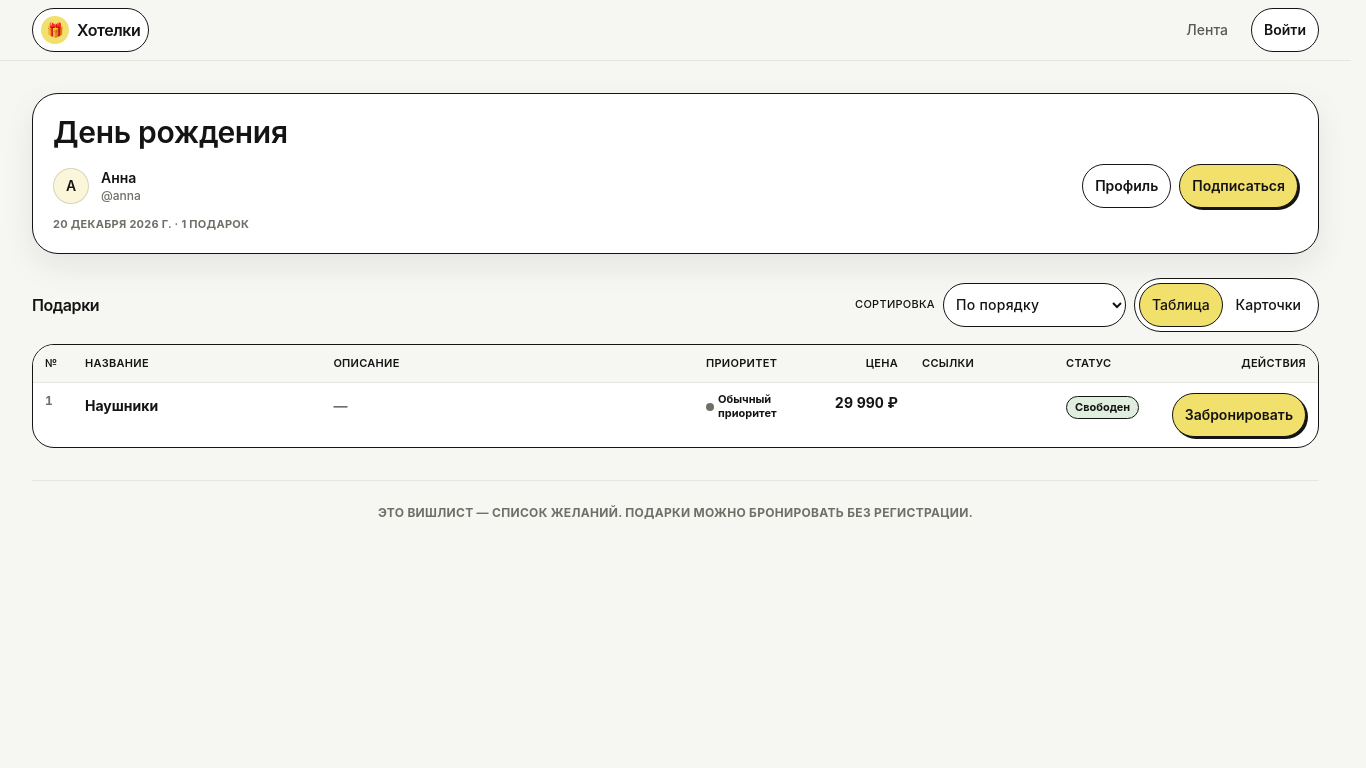
Test case: переключатель вида подарков › переключение на «Карточки» сохраняется и переживает перемонтирование
The width and height of the screenshot is (1366, 768).
Later steps or results of the test are not shown.
Expected: the text "Наушники" is shown, [85,397,158,414]
Click the button "Карточки": [1268, 304] box [1223,282,1314,326]
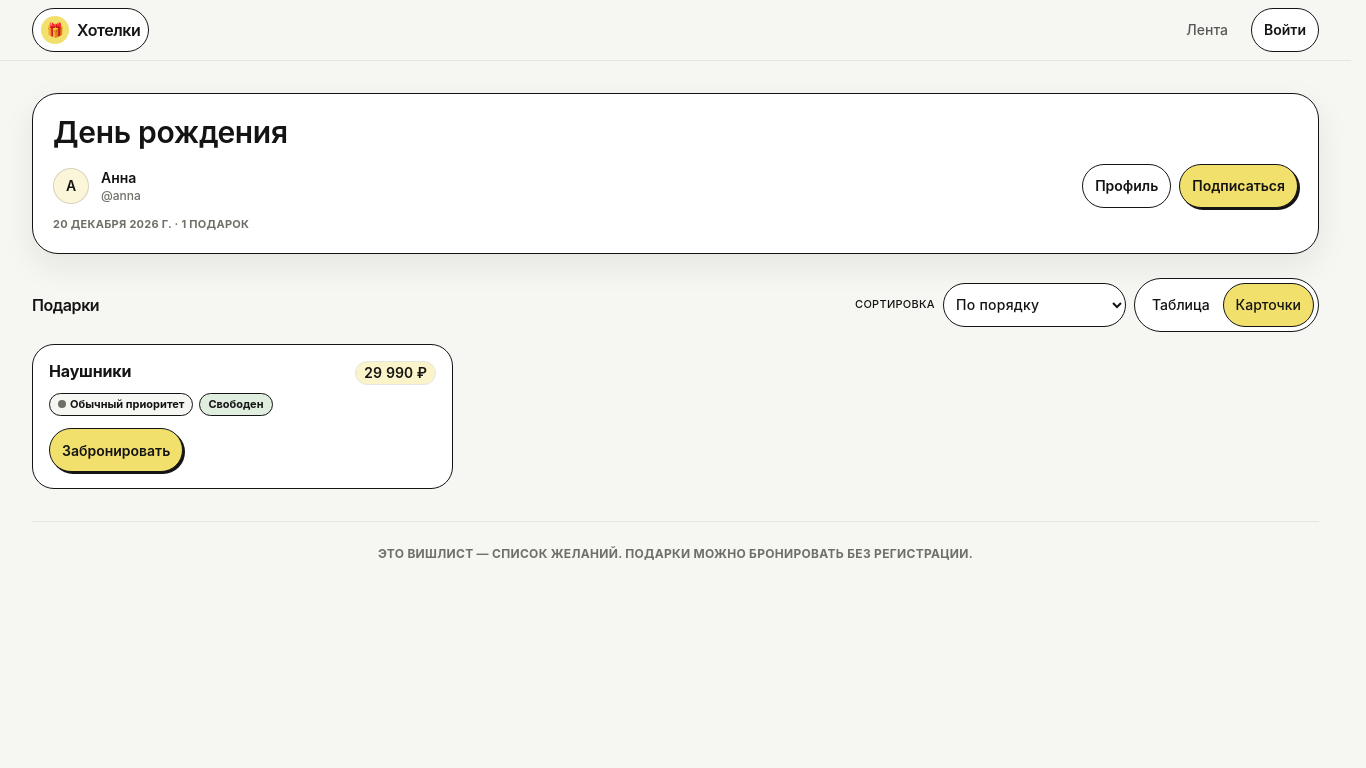
Expected: the element showing "Наушники 29 990 ₽ Обычный приоритет Свободен Забронировать" is shown, [32,344,453,489]
